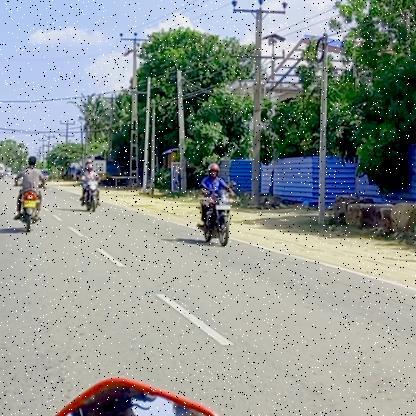motorcycle: (195, 190, 238, 249), (12, 186, 46, 234), (77, 180, 105, 216)
